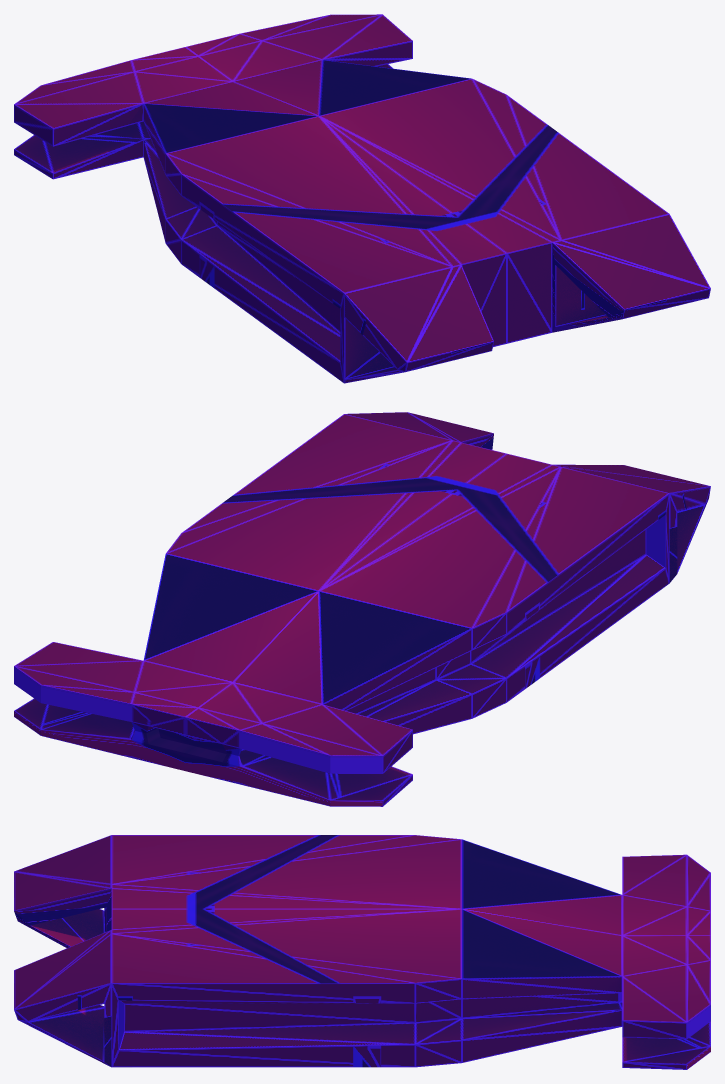
Rendered from Observer.glb.
The picture shows the model from 3 angles, top to bottom: view 1: azimuth 30°, elevation 25°; view 2: azimuth 150°, elevation 25°; view 3: azimuth 270°, elevation 25°; orthographic projection. The views are drawn at different scales.
Visible parts, largest first — view 1: Cube; view 2: Cube; view 3: Cube.
Part boxes in pixels (box(x1,y1,x2,y2)): Cube: box(14, 14, 710, 383); Cube: box(14, 412, 710, 806); Cube: box(14, 835, 710, 1069).
Size of the model in its own units: 2.27 by 0.5302 by 3.98.
Materials: 1 (1 with a texture image).
